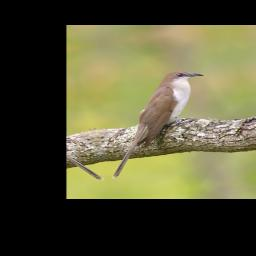Cuckoo: (83, 67, 232, 179)
